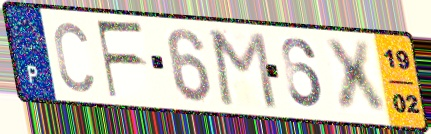6: (164, 26, 213, 105), (280, 35, 326, 111)
C: (51, 19, 96, 95)
F: (94, 19, 147, 100)
M: (209, 28, 280, 112)
X: (320, 38, 391, 117)
